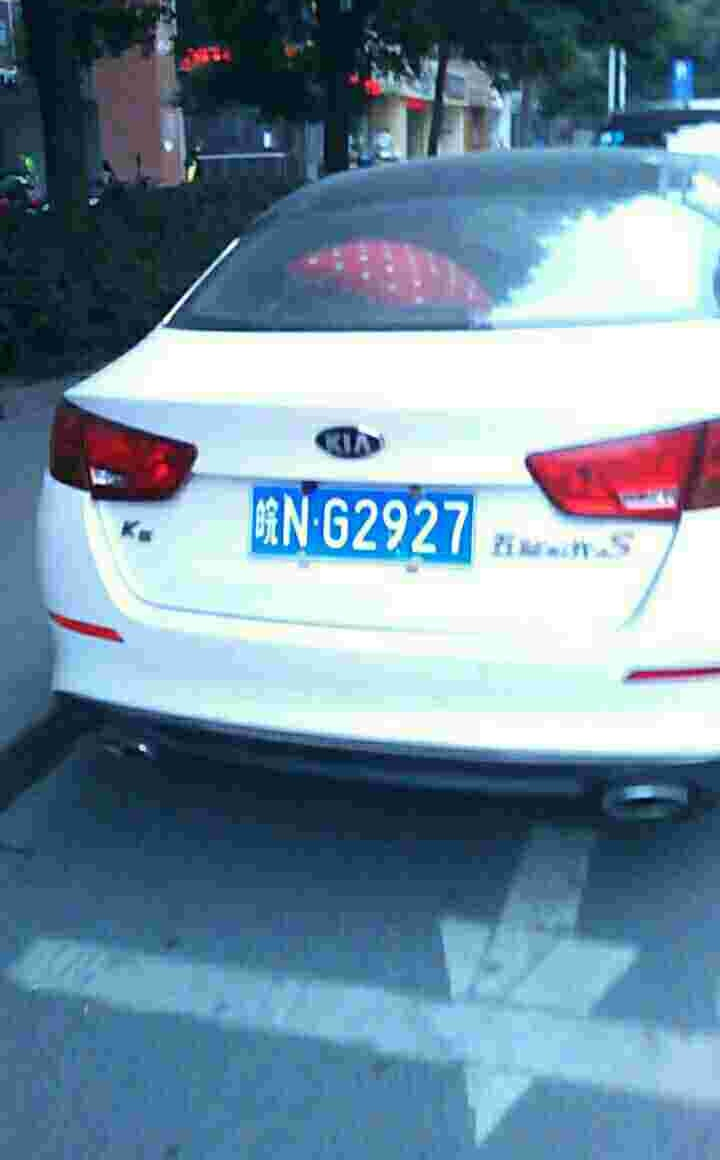license_plate: (257, 490, 481, 561)
